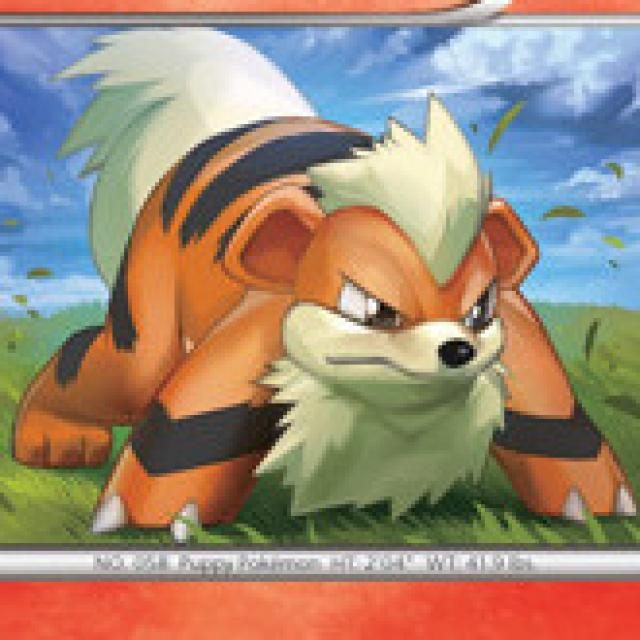Growlithe: (20, 26, 625, 548)
